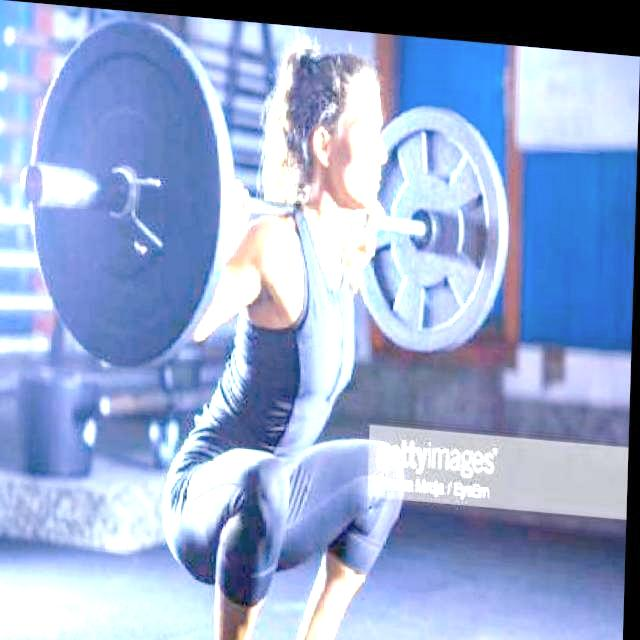barbell: (15, 3, 235, 380)
